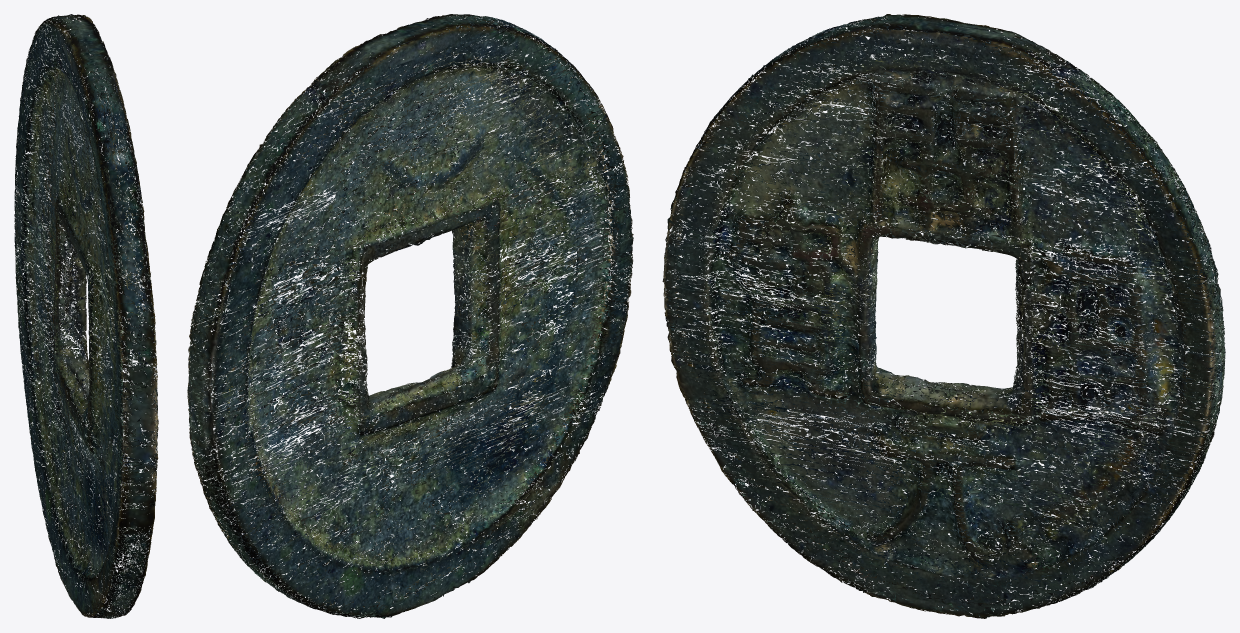
The model's file is coin.glb.
The picture shows the model from 3 angles, left to right: view 1: azimuth 30°, elevation 25°; view 2: azimuth 150°, elevation 25°; view 3: azimuth 270°, elevation 25°; orthographic projection. The views are drawn at different scales.
Parts seen in each view (by area): view 1: Object_8, Object_2, Object_21, Object_3, Object_7, Object_20, Object_16, Object_9, Object_6, Object_14, Object_28, Object_22 (+48 smaller); view 2: Object_16, Object_22, Object_14, Object_15, Object_26, Object_42, Object_18, Object_2, Object_20, Object_41, Object_43, Object_13 (+48 smaller); view 3: Object_33, Object_34, Object_36, Object_5, Object_4, Object_37, Object_24, Object_32, Object_48, Object_35, Object_12, Object_54 (+48 smaller).
Boxes of the visible parts, <box> form: Object_8: <box>97,176,156,510</box>; Object_2: <box>85,263,158,447</box>; Object_21: <box>53,56,141,597</box>; Object_3: <box>87,236,157,463</box>; Object_7: <box>89,171,157,497</box>; Object_20: <box>48,20,143,591</box>; Object_16: <box>41,181,147,594</box>; Object_9: <box>105,170,155,538</box>; Object_6: <box>87,169,158,486</box>; Object_14: <box>32,286,149,591</box>; Object_28: <box>46,23,130,528</box>; Object_22: <box>49,19,139,594</box>; Object_16: <box>320,56,597,615</box>; Object_22: <box>334,24,566,431</box>; Object_14: <box>284,94,603,602</box>; Object_15: <box>308,59,599,606</box>; Object_26: <box>348,20,553,615</box>; Object_42: <box>204,80,351,546</box>; Object_18: <box>299,35,588,616</box>; Object_2: <box>460,167,633,342</box>; Object_20: <box>312,16,579,496</box>; Object_41: <box>192,80,357,531</box>; Object_43: <box>189,85,354,571</box>; Object_13: <box>281,59,608,586</box>; Object_33: <box>865,154,1222,611</box>; Object_34: <box>860,130,1219,592</box>; Object_36: <box>925,87,1179,552</box>; Object_5: <box>665,113,883,379</box>; Object_4: <box>664,111,876,380</box>; Object_37: <box>875,93,1139,560</box>; Object_24: <box>760,38,1062,521</box>; Object_32: <box>917,158,1220,618</box>; Object_48: <box>1077,96,1211,563</box>; Object_35: <box>867,111,1218,567</box>; Object_12: <box>693,81,1101,511</box>; Object_54: <box>875,68,1025,611</box>.
Size of the model in its own units: 0.00854 by 0.025 by 0.0217.
1 material, 1 textured.
